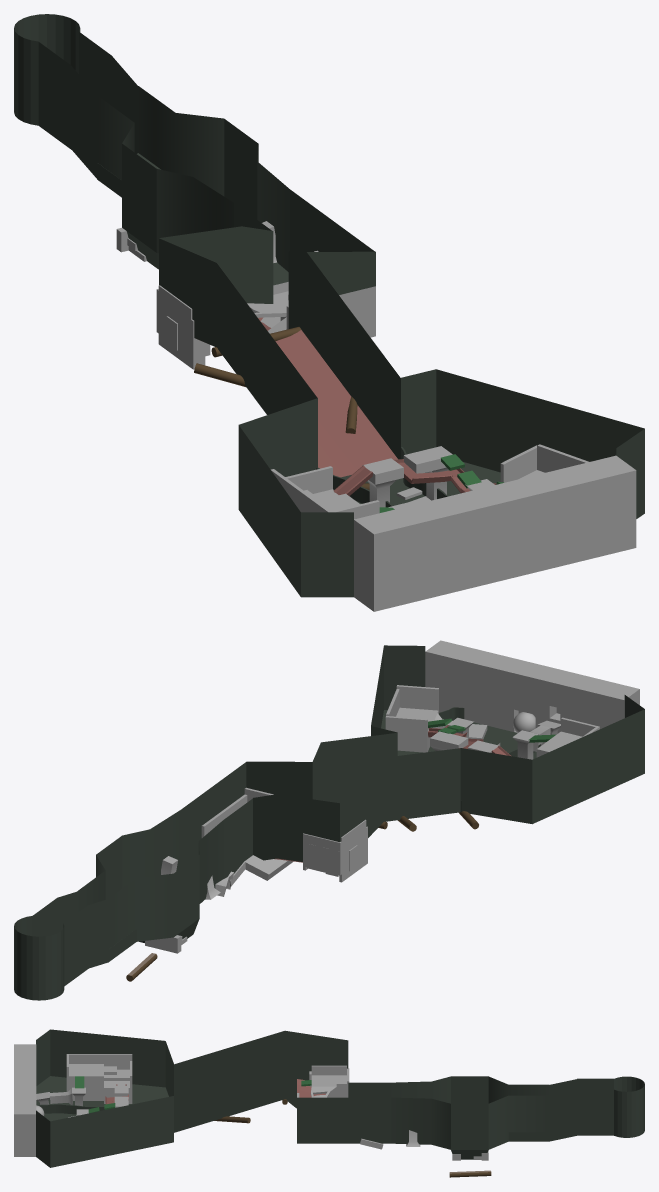
Rendered from JungleLevel_BlockoutTest_V3_Updated.fbx.
The picture shows the model from 3 angles, top to bottom: view 1: azimuth 30°, elevation 25°; view 2: azimuth 150°, elevation 25°; view 3: azimuth 270°, elevation 25°; orthographic projection. The views are drawn at different scales.
Parts seen in each view (by area): view 1: MudRamp2, StartSection, Final_Section1, Temple_Entrance, MudRamp1, pCube135, pCube156, pCube183, pCube19, pCube184, pCube181, pCube185; view 2: StartSection, MudRamp2, Final_Section1, Temple_Entrance, MudRamp1, pCube183, pCube135, pCube182, pCube134, pCube124, pCube19, pCube29; view 3: StartSection, Final_Section1, MudRamp2, Temple_Entrance, MudRamp1, pCube173, pCube185, pCube188, pCube145, pCube127, pCube135, pCube144 (+5 smaller).
Part boxes in pixels (<box>): MudRamp2: <box>159,226,400,477</box>; StartSection: <box>14,14,374,285</box>; Final_Section1: <box>238,369,644,597</box>; Temple_Entrance: <box>354,455,636,611</box>; MudRamp1: <box>72,57,138,178</box>; pCube135: <box>158,285,192,367</box>; pCube156: <box>286,286,375,337</box>; pCube183: <box>500,445,536,482</box>; pCube19: <box>403,446,452,473</box>; pCube184: <box>285,466,332,493</box>; pCube181: <box>537,444,588,472</box>; pCube185: <box>271,469,331,512</box>; StartSection: <box>14,762,252,1000</box>; MudRamp2: <box>246,732,460,862</box>; Final_Section1: <box>371,645,644,824</box>; Temple_Entrance: <box>425,640,639,733</box>; MudRamp1: <box>58,891,108,968</box>; pCube183: <box>385,716,427,752</box>; pCube135: <box>339,819,366,882</box>; pCube182: <box>396,685,438,714</box>; pCube134: <box>303,833,341,875</box>; pCube124: <box>244,855,293,880</box>; pCube19: <box>430,731,468,749</box>; pCube29: <box>201,794,247,837</box>; StartSection: <box>297,1076,644,1159</box>; Final_Section1: <box>36,1029,173,1167</box>; MudRamp2: <box>174,1030,348,1132</box>; Temple_Entrance: <box>14,1044,36,1156</box>; MudRamp1: <box>549,1079,576,1141</box>; pCube173: <box>69,1064,103,1100</box>; pCube185: <box>69,1054,132,1069</box>; pCube188: <box>37,1104,104,1114</box>; pCube145: <box>508,1132,549,1141</box>; pCube127: <box>311,1075,346,1090</box>; pCube135: <box>311,1065,346,1075</box>; pCube144: <box>577,1126,613,1135</box>.
Size of the model in its own units: 8051 by 4318 by 23343.
